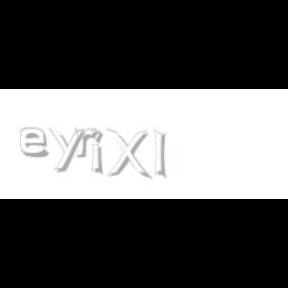I: (154, 128, 168, 180)
X: (105, 128, 149, 180)
e: (20, 128, 53, 158)
i: (91, 128, 107, 176)
r: (74, 128, 102, 158)
y: (49, 128, 89, 172)
